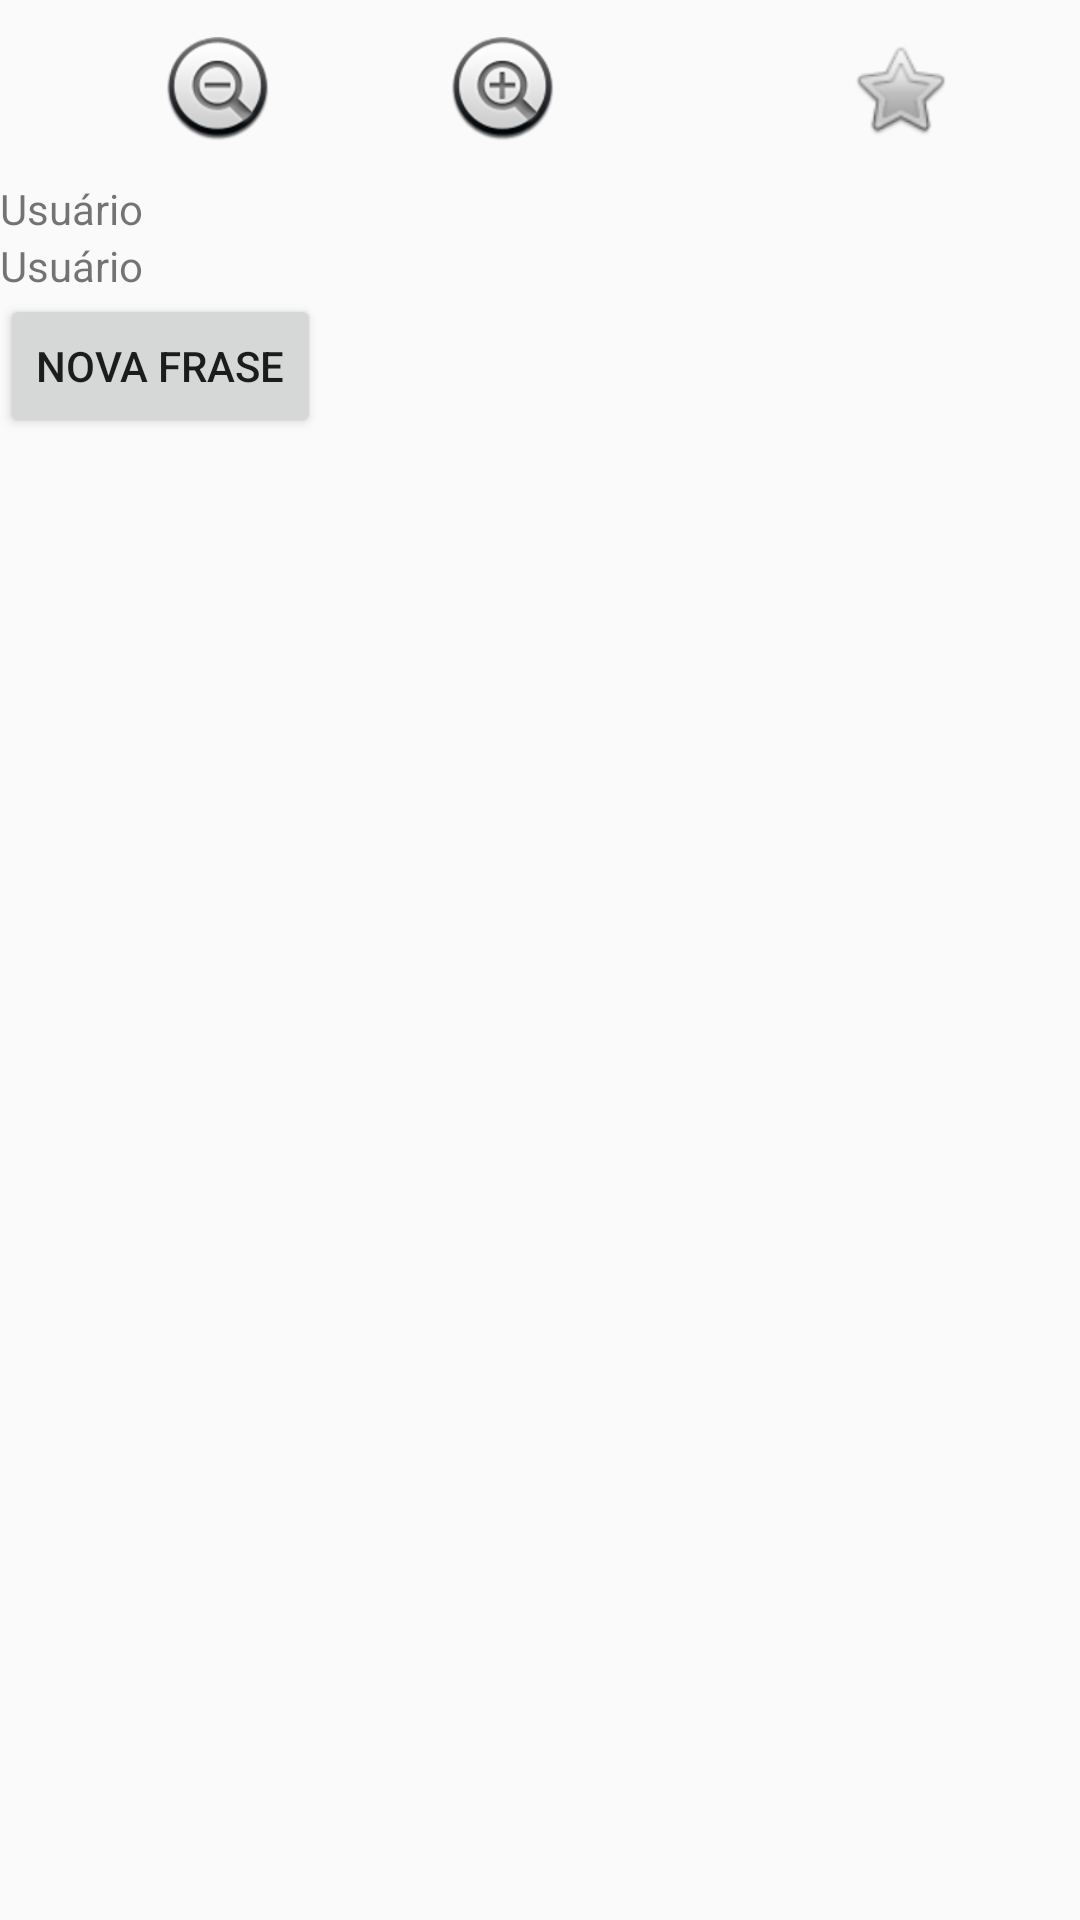

Named icons in this screenshot (1080w x 1920h) and their bounding boxes, bbox(x1, y1, x2, y2):
minus: bbox(167, 37, 268, 140)
plus: bbox(452, 37, 553, 140)
star: bbox(857, 48, 945, 133)
